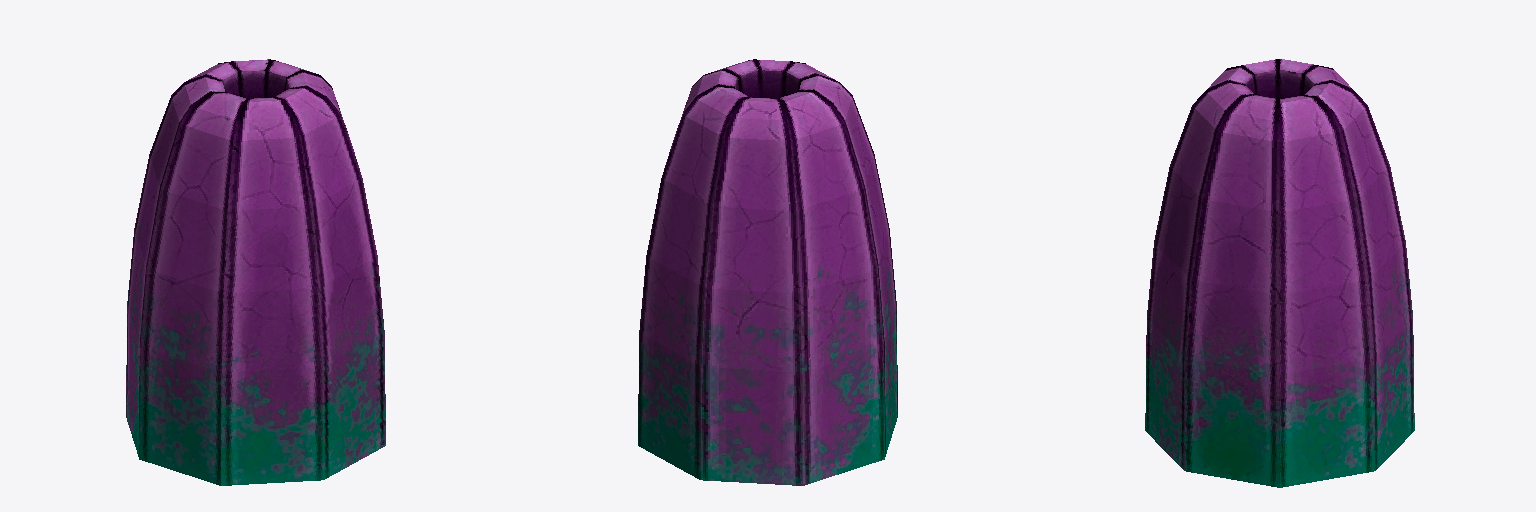
3 views of the same model, side by side, from view 1: azimuth 30°, elevation 25°; view 2: azimuth 150°, elevation 25°; view 3: azimuth 270°, elevation 25° (orthographic).
Parts seen in each view (by area): view 1: smd_mesh_gon_gourd_0; view 2: smd_mesh_gon_gourd_0; view 3: smd_mesh_gon_gourd_0.
Part boxes in pixels (x1,y1,x2,y2): smd_mesh_gon_gourd_0: (126, 59, 385, 485); smd_mesh_gon_gourd_0: (638, 59, 897, 485); smd_mesh_gon_gourd_0: (1145, 59, 1414, 487).
Size of the model in its own units: 4.13 by 5.93 by 4.13.
1 materials, 1 textured.